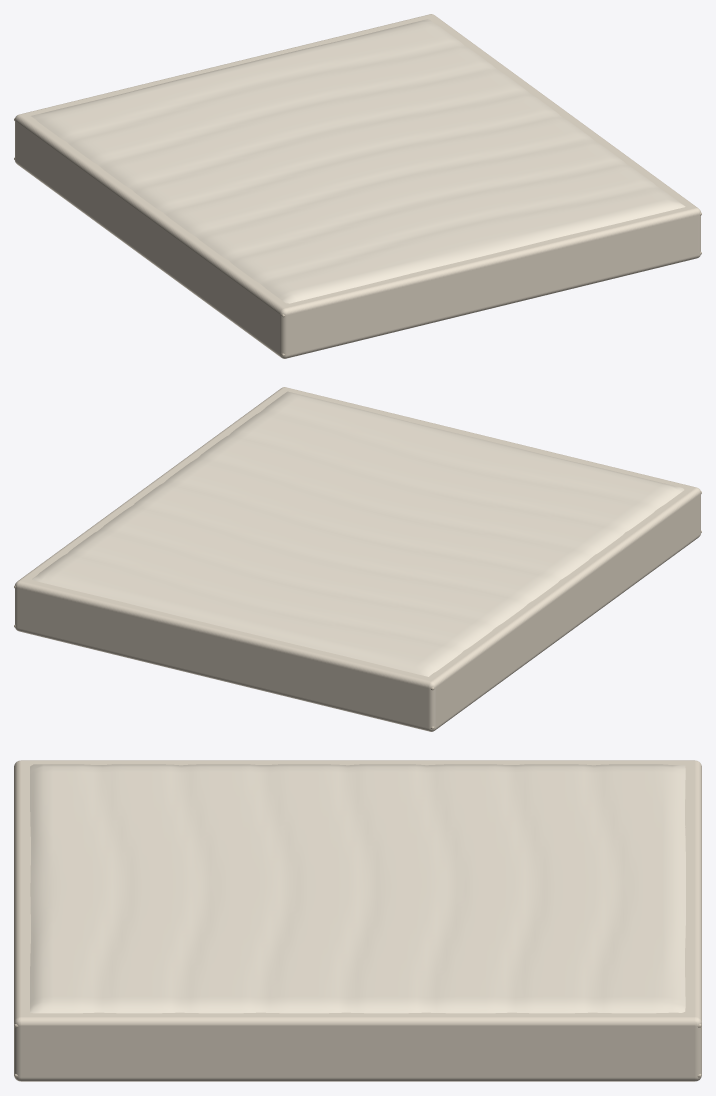
Rendered from mattress-y83b33-v1.glb.
The picture shows the model from 3 angles, top to bottom: view 1: azimuth 30°, elevation 25°; view 2: azimuth 150°, elevation 25°; view 3: azimuth 270°, elevation 25°; orthographic projection. The views are drawn at different scales.
Parts seen in each view (by area): view 1: Quilted sleeping surface, Cushioned mattress border; view 2: Quilted sleeping surface, Cushioned mattress border; view 3: Quilted sleeping surface, Cushioned mattress border.
Boxes of the visible parts, x1=… form: Quilted sleeping surface: x1=31, y1=19, x2=685, y2=303; Cushioned mattress border: x1=15, y1=14, x2=700, y2=358; Quilted sleeping surface: x1=32, y1=391, x2=684, y2=676; Cushioned mattress border: x1=15, y1=387, x2=700, y2=731; Quilted sleeping surface: x1=30, y1=764, x2=685, y2=1013; Cushioned mattress border: x1=14, y1=760, x2=701, y2=1081.
Bounding box in the file's own units: 1.8 × 0.22 × 2.
